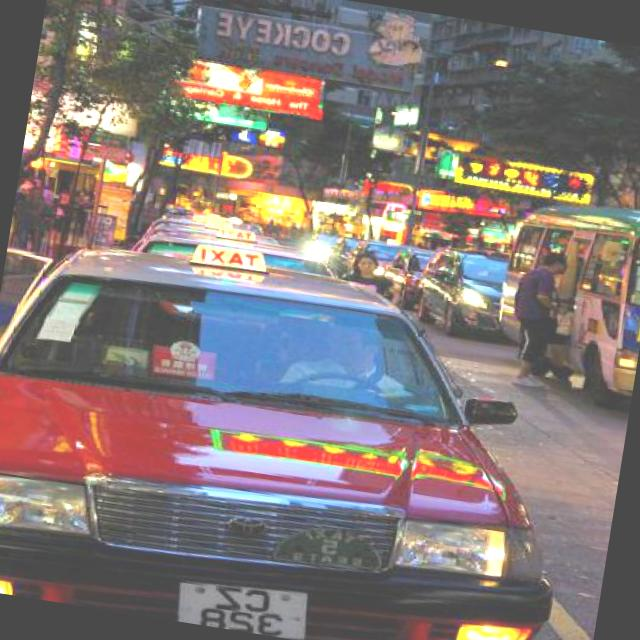Person: (506, 246, 594, 394), (286, 305, 412, 393), (339, 250, 410, 304), (24, 186, 61, 253), (9, 175, 40, 250), (139, 196, 165, 242)
